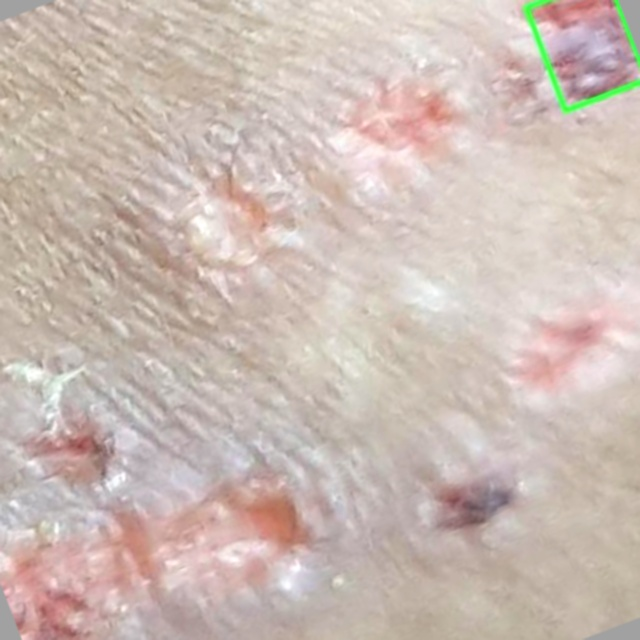Eczema: (526, 0, 639, 110)
